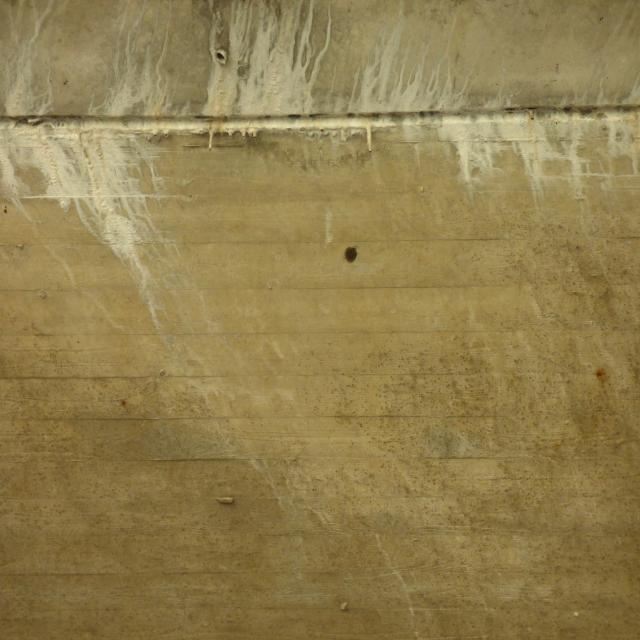corrosion: (592, 366, 606, 379)
